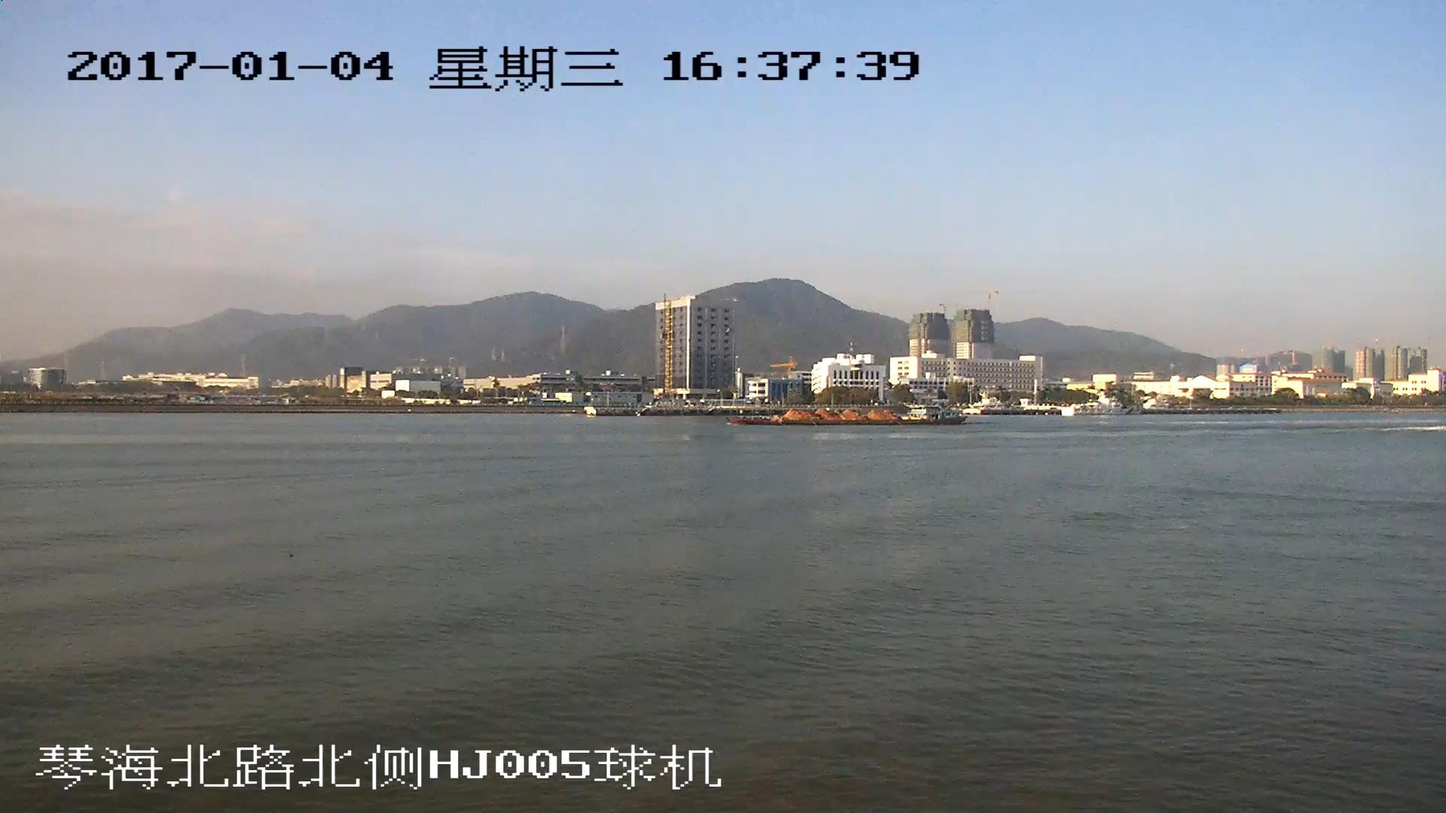ore carrier: (731, 404, 963, 425)
